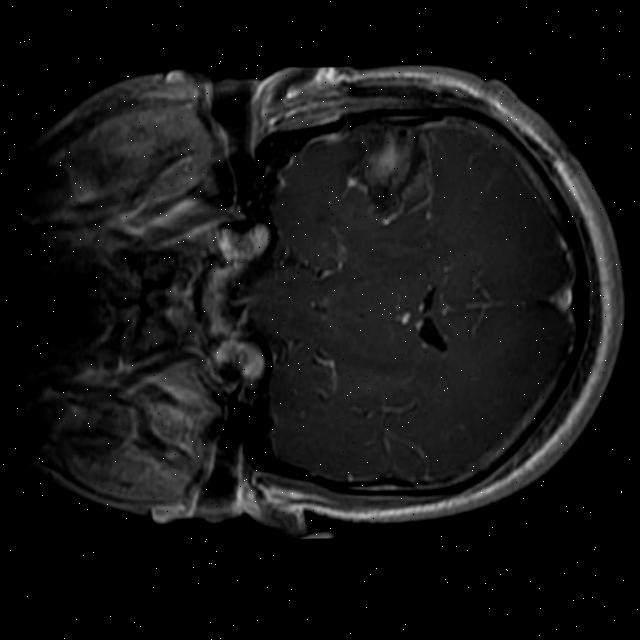Glioma: (341, 116, 435, 228)
Pituitary: (196, 264, 236, 338)
